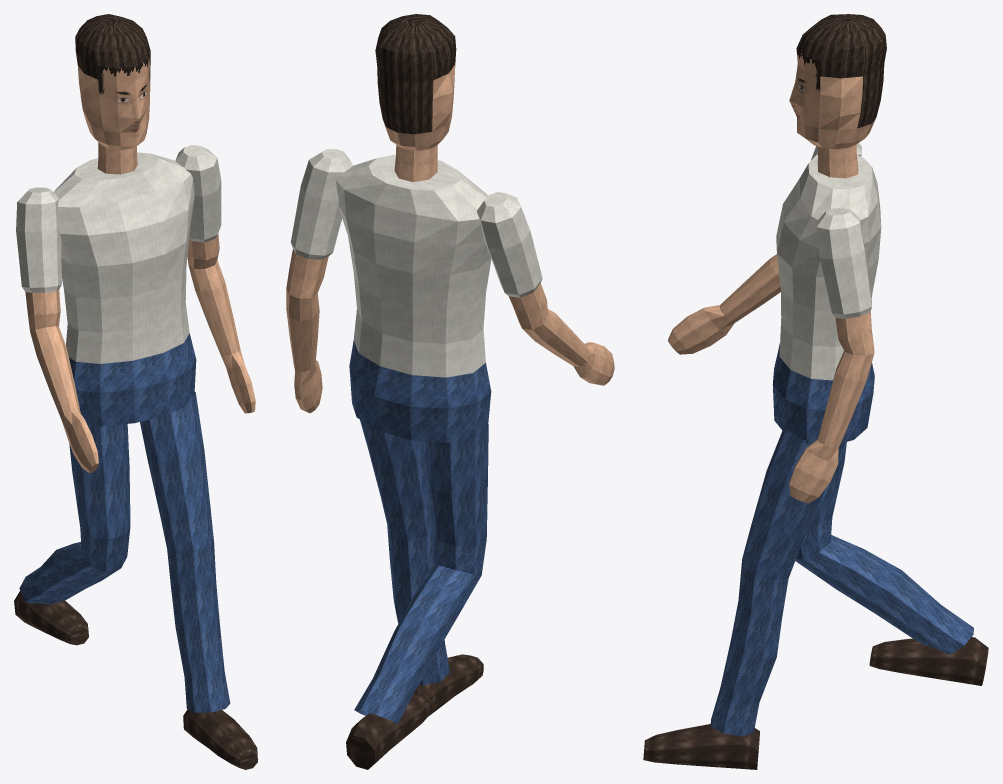
Rendered from walk_09.obj.
The picture shows the model from 3 angles, left to right: view 1: azimuth 30°, elevation 25°; view 2: azimuth 150°, elevation 25°; view 3: azimuth 270°, elevation 25°; orthographic projection. The views are drawn at different scales.
Size of the model in its own units: 0.6265 by 1.82 by 0.7856.
25 materials, 25 textured.
